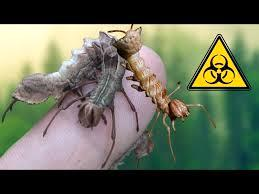Lobster Moth: (11, 31, 124, 120), (111, 25, 193, 126), (77, 48, 126, 129)
